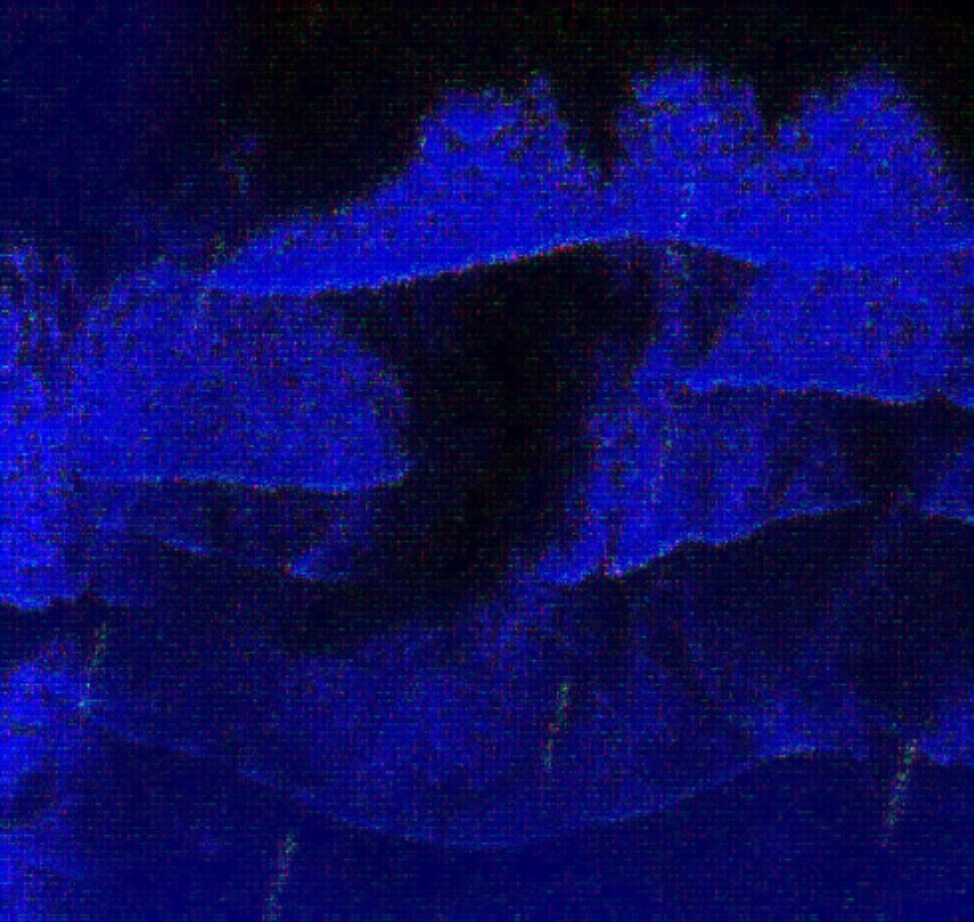rip_current: (251, 176, 661, 679)
